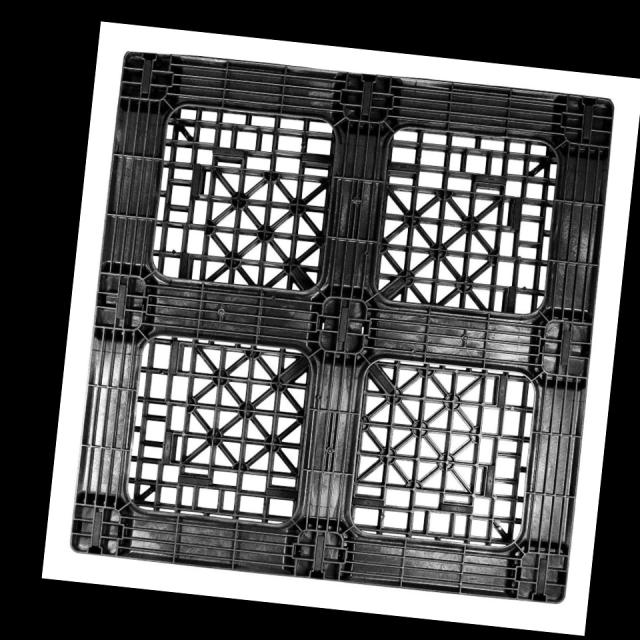non-igps: (61, 42, 618, 607)
